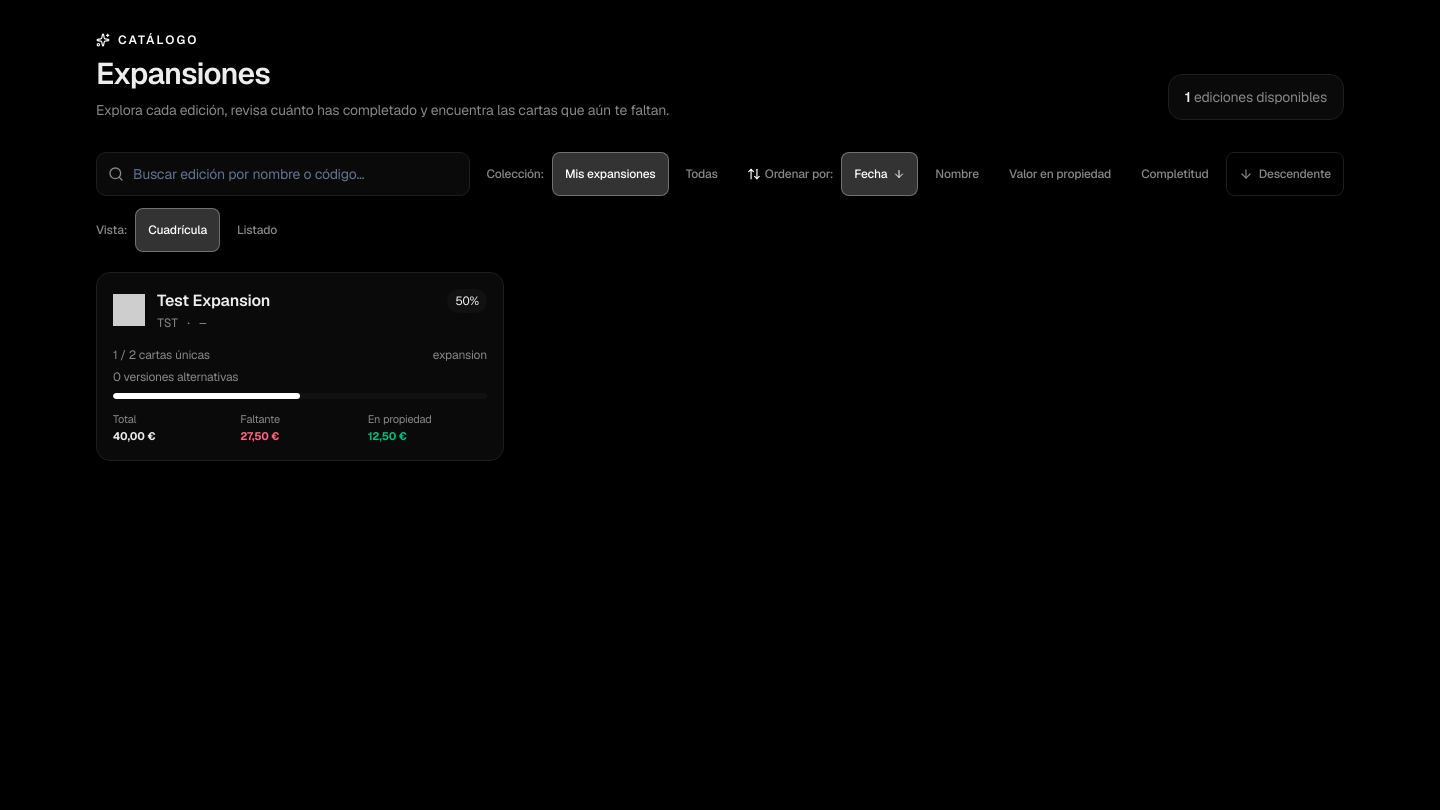
Test: ExpansionsView › shows a load error instead of reporting an empty expansion when the API fails
What coordinates should you click on to do the following:
click the button "Test Expansion"
I would click on:
 (129, 310)
Its box is x1=96 y1=272 x2=504 y2=461.
(page scrolled)
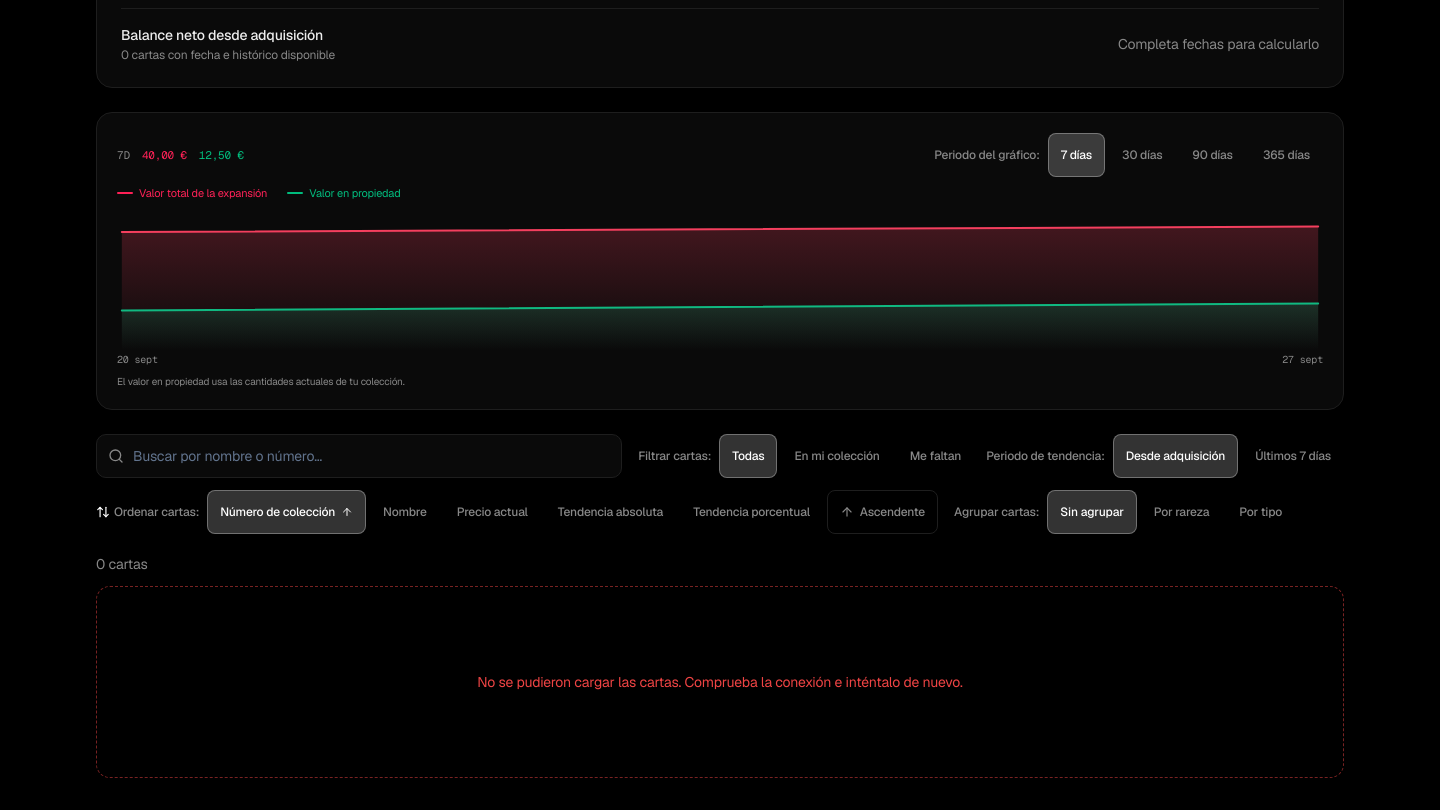
Expected: the text "No se pudieron cargar las cartas. Comprueba la conexión e inténtalo de nuevo." is shown, x1=96 y1=586 x2=1344 y2=778
